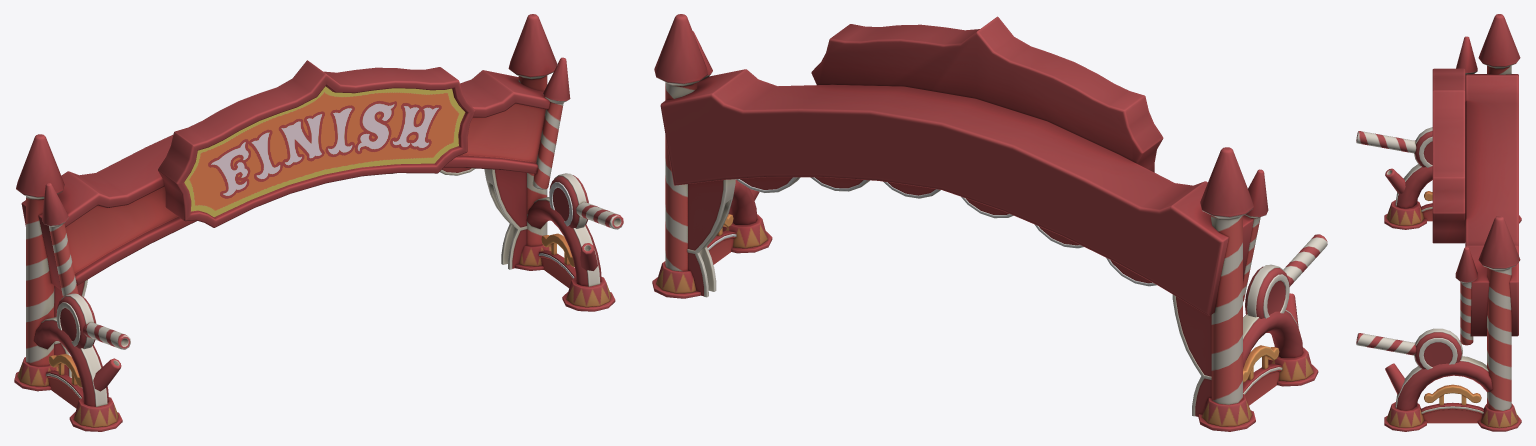
File: SM_ColorSwitchGate02.fbx
3 views of the same model, side by side, from view 1: azimuth 30°, elevation 25°; view 2: azimuth 150°, elevation 25°; view 3: azimuth 270°, elevation 25° (orthographic). The views are drawn at different scales.
Parts seen in each view (by area): view 1: SM_ColorSwitchGate02; view 2: SM_ColorSwitchGate02; view 3: SM_ColorSwitchGate02.
Boxes of the visible parts, x1,y1,x2,y2 form: SM_ColorSwitchGate02: (14,14,623,431); SM_ColorSwitchGate02: (652,14,1327,431); SM_ColorSwitchGate02: (1356,14,1521,431).
Bounding box in the file's own units: 5817 × 2838 × 1843.
